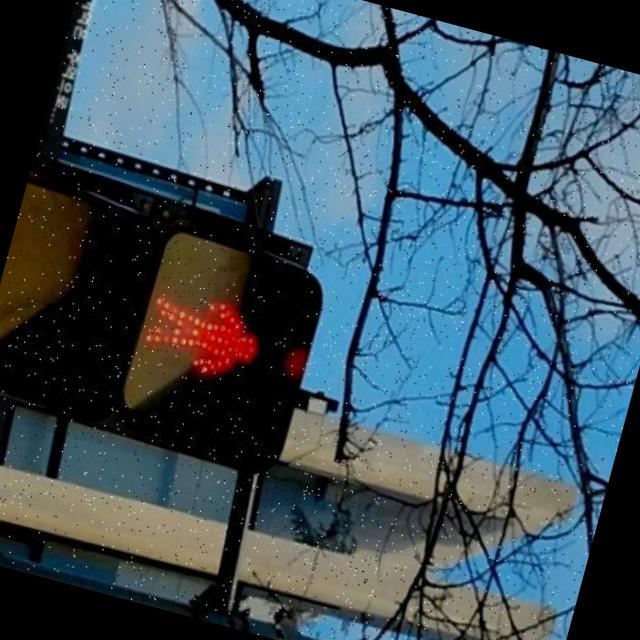red_light: (119, 246, 293, 434)
